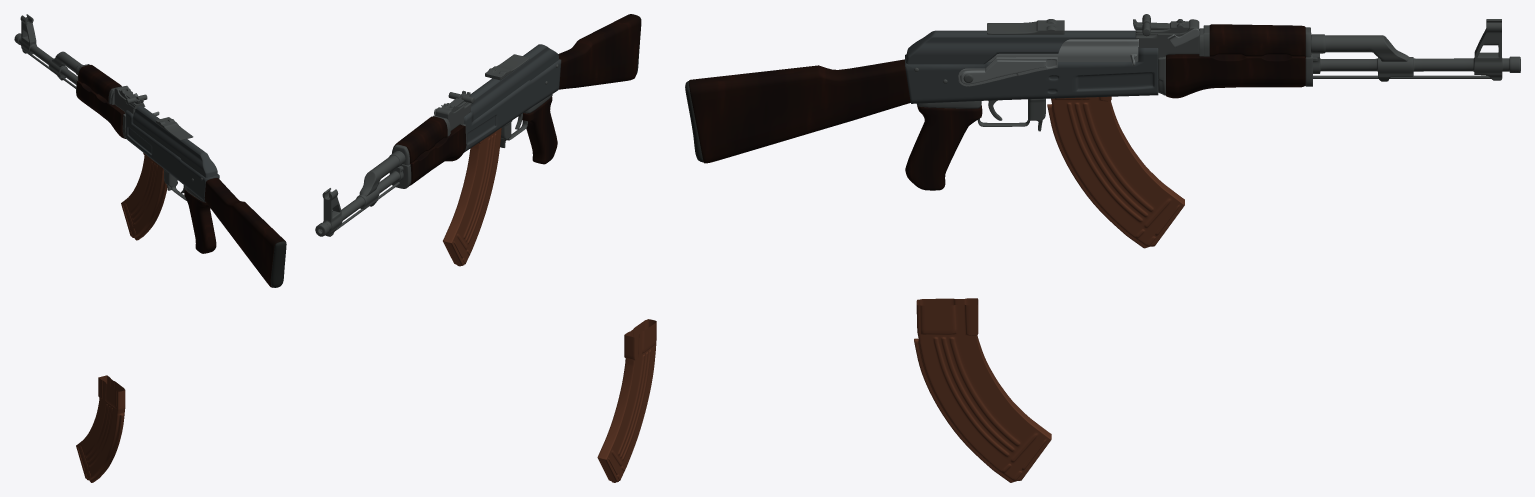
File: ak47_reloadable_fp.glb
The picture shows the model from 3 angles, left to right: view 1: azimuth 30°, elevation 25°; view 2: azimuth 150°, elevation 25°; view 3: azimuth 270°, elevation 25°; orthographic projection. The views are drawn at different scales.
Parts seen in each view (by area): view 1: ReceiverGeometry, StockWoodGeometry, SpareMagazineGeometry, FurnitureGeometry, MagazineGeometry, WeaponBodyGeometry, StockButtpadGeometry, OpticRailAdapterGeometry, FrontIronGeometry; view 2: ReceiverGeometry, SpareMagazineGeometry, StockWoodGeometry, FurnitureGeometry, WeaponBodyGeometry, MagazineGeometry, OpticRailAdapterGeometry, FrontIronGeometry; view 3: StockWoodGeometry, ReceiverGeometry, SpareMagazineGeometry, FurnitureGeometry, MagazineGeometry, WeaponBodyGeometry, ChargingHandleGeometry, BoltHardwareGeometry, OpticRailAdapterGeometry.
Part boxes in pixels (x1,y1,x2,y2): ReceiverGeometry: [126, 106, 219, 201]; StockWoodGeometry: [204, 178, 286, 287]; SpareMagazineGeometry: [76, 375, 125, 482]; FurnitureGeometry: [76, 65, 216, 253]; MagazineGeometry: [121, 153, 167, 240]; WeaponBodyGeometry: [14, 33, 205, 202]; StockButtpadGeometry: [270, 241, 286, 287]; OpticRailAdapterGeometry: [155, 117, 193, 140]; FrontIronGeometry: [20, 14, 36, 42]; ReceiverGeometry: [464, 44, 561, 152]; SpareMagazineGeometry: [597, 319, 656, 482]; StockWoodGeometry: [558, 14, 641, 89]; FurnitureGeometry: [393, 96, 557, 185]; WeaponBodyGeometry: [315, 64, 558, 236]; MagazineGeometry: [443, 128, 501, 266]; OpticRailAdapterGeometry: [485, 54, 529, 80]; FrontIronGeometry: [322, 188, 341, 218]; StockWoodGeometry: [689, 59, 910, 163]; ReceiverGeometry: [905, 30, 1158, 103]; SpareMagazineGeometry: [914, 298, 1051, 482]; FurnitureGeometry: [905, 24, 1305, 190]; MagazineGeometry: [1047, 96, 1184, 248]; WeaponBodyGeometry: [914, 14, 1520, 131]; ChargingHandleGeometry: [988, 39, 1138, 65]; BoltHardwareGeometry: [958, 28, 1199, 86]; OpticRailAdapterGeometry: [987, 19, 1064, 34].
Bounding box in the file's own units: 0.3799 × 1.1 × 1.57.
Materials: 6 (1 with a texture image).
